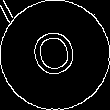O_S: (27, 24, 83, 86)
